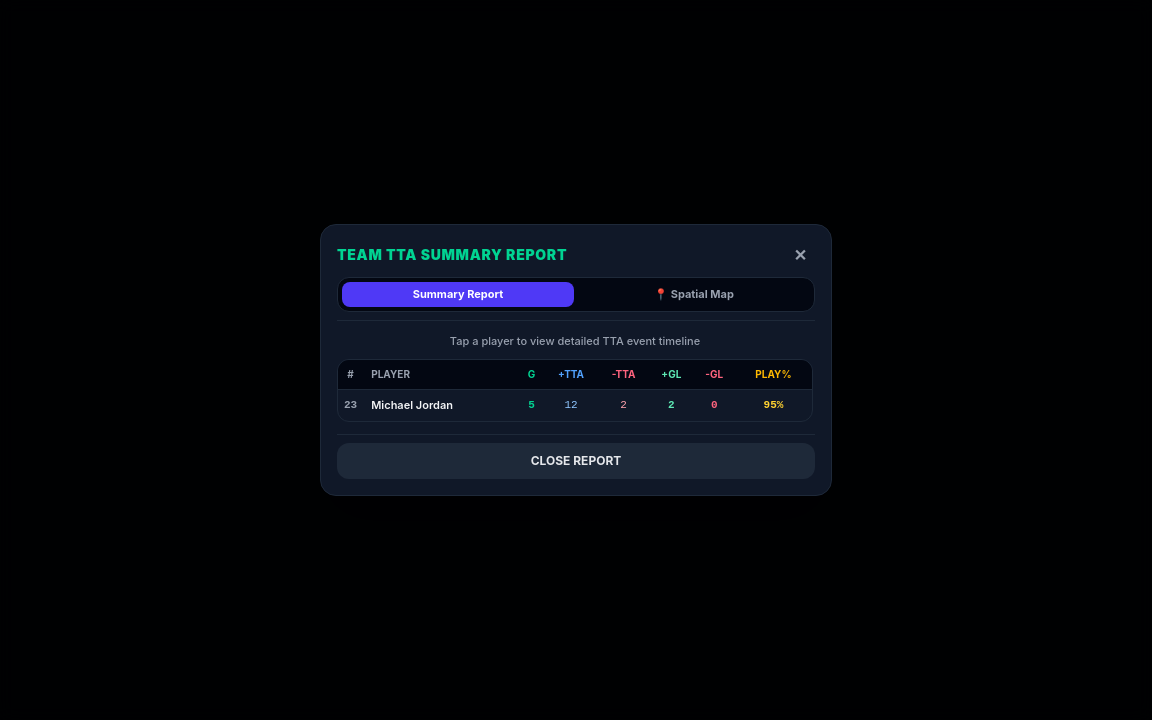
MatchReportModal › navigates to player detailed report and displays summary cards when a player row is clicked
Click the button "Michael Jordan": (412, 406) top-left (371, 398), bottom-right (453, 413)
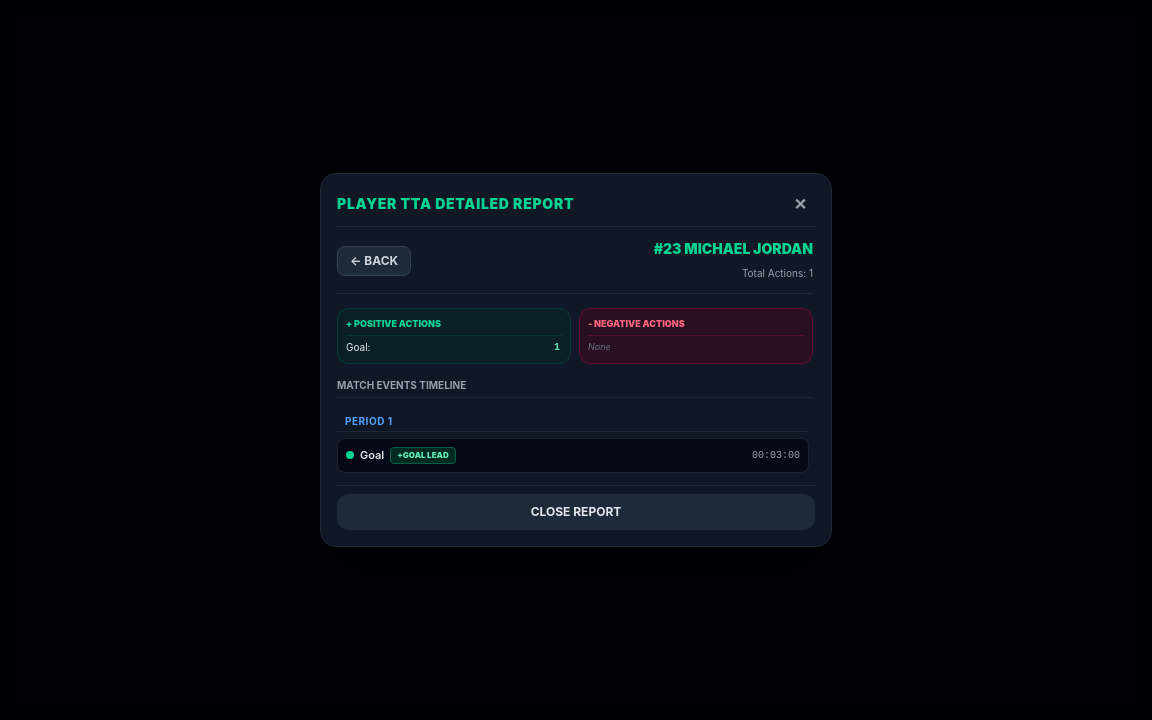
Result: the heading "Player TTA Detailed Report" is shown at top-left (337, 194), bottom-right (574, 214)
Result: the heading "#23 Michael Jordan" is shown at top-left (654, 239), bottom-right (813, 259)
Result: the text "+ Positive Actions" is shown at top-left (346, 317), bottom-right (562, 336)
